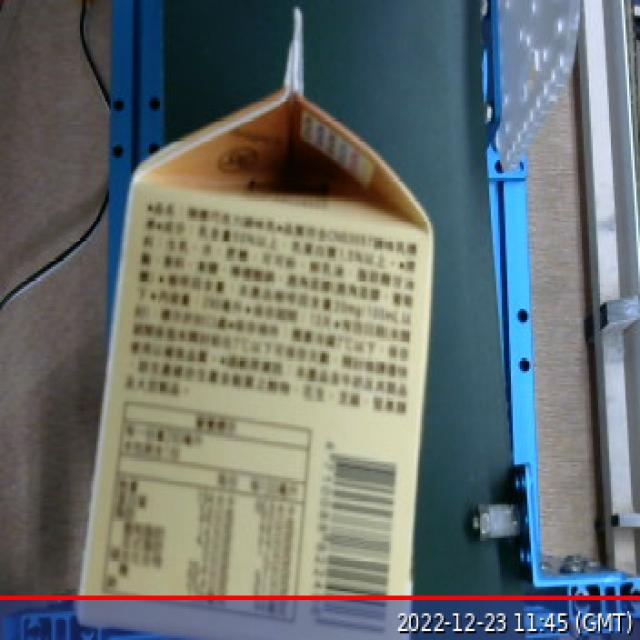non_white_jug: (70, 6, 452, 639)
